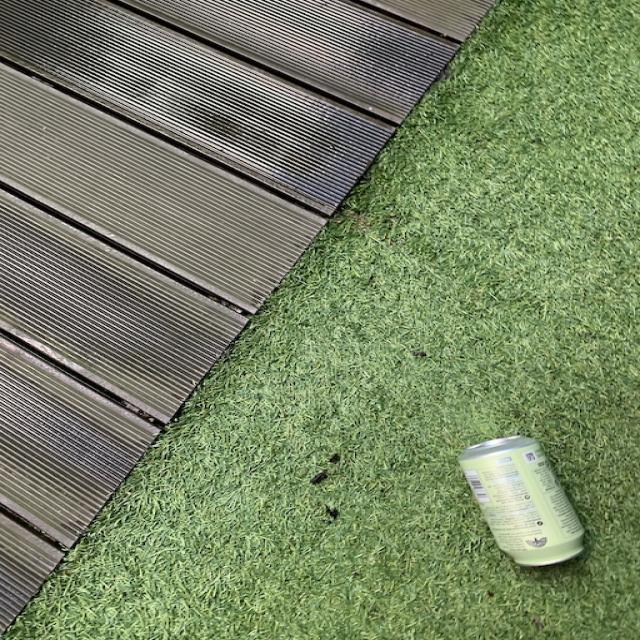Aluminum Can: (460, 439, 585, 577)
